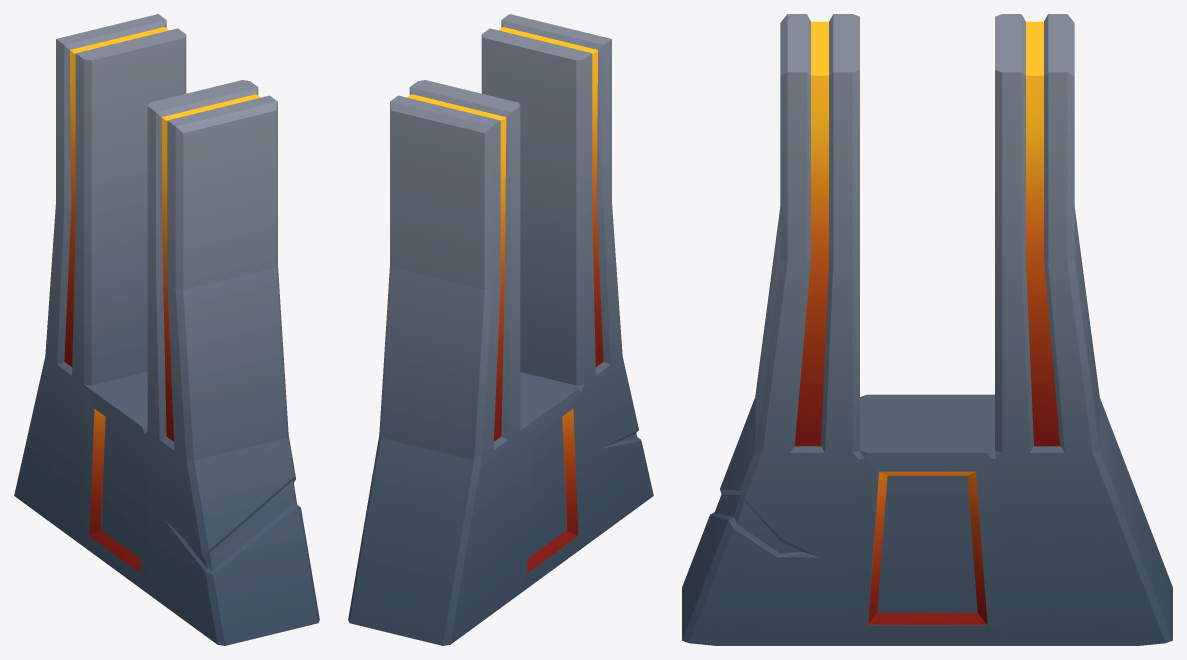
File: SM_APP_Alien_blockE.glb
3 renders of one model, left to right at view 1: azimuth 30°, elevation 25°; view 2: azimuth 150°, elevation 25°; view 3: azimuth 270°, elevation 25°, orthographic. The views are drawn at different scales.
Parts seen in each view (by area): view 1: SM_APP_Alien_blockE; view 2: SM_APP_Alien_blockE; view 3: SM_APP_Alien_blockE.
Part boxes in pixels (x1,y1,x2,y2): SM_APP_Alien_blockE: (14,14,319,645); SM_APP_Alien_blockE: (348,14,653,645); SM_APP_Alien_blockE: (682,14,1172,645).
Bounding box in the file's own units: 3.3 × 15.18 × 11.58.
Materials: 1 (1 with a texture image).
